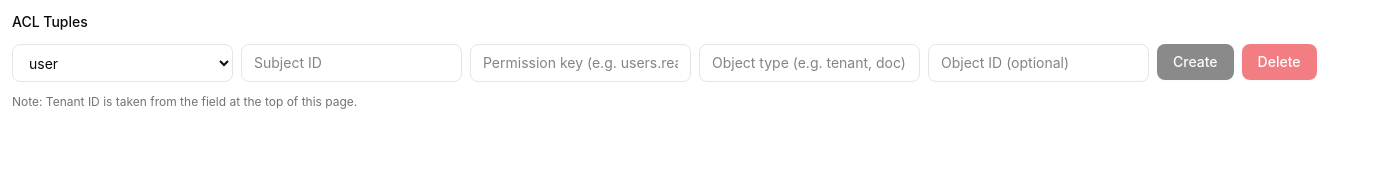
Test: ACLPanel › handles error from create
The image size is (1378, 176).
Step 1. Type "u1" into the field with test id "fga-acl-subject-id" → (352, 63), box [241,44,462,82]
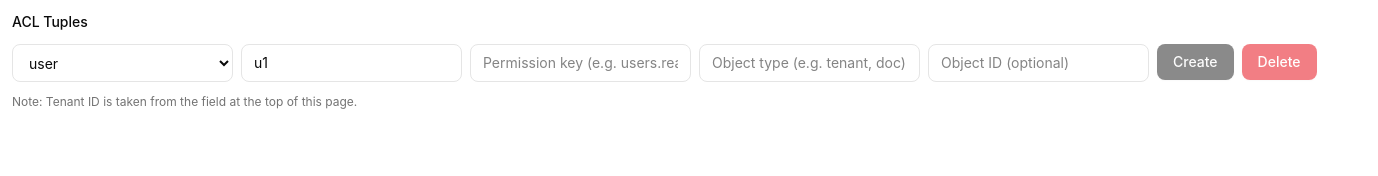
Step 2. Type "users.read" into the field with test id "fga-acl-permission-key" → (580, 63), box [470,44,691,82]
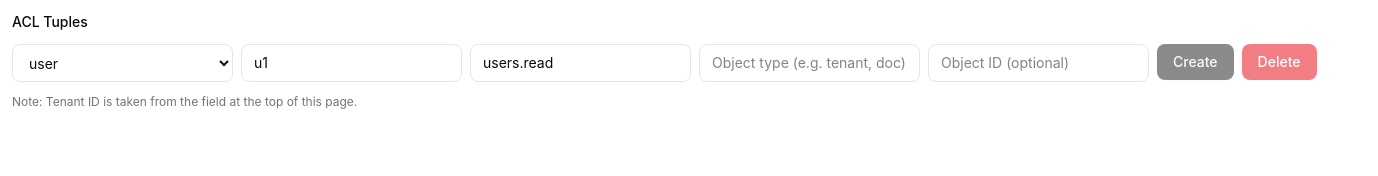
Step 3. Type "tenant" into the field with test id "fga-acl-object-type" → (810, 63), box [699,44,920,82]
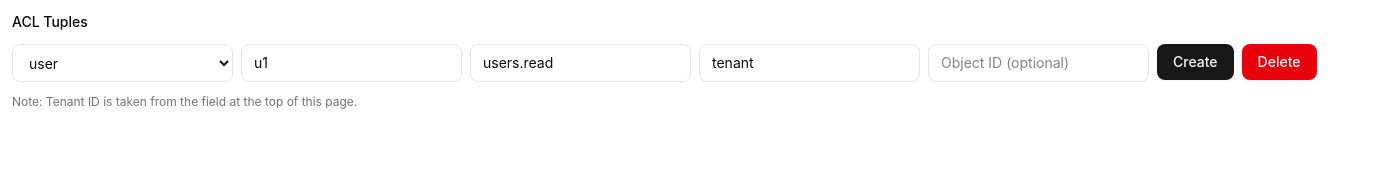
Step 4. Click the button with test id "fga-acl-create" → click(1195, 62), box [1157,44,1234,80]
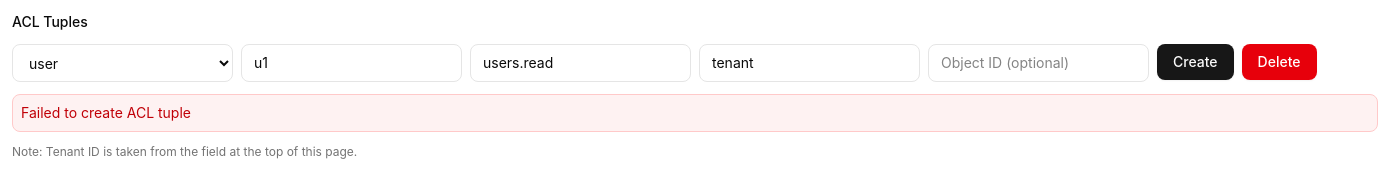
Result: the text "Failed to create ACL tuple" is shown at [12,94,1377,132]
